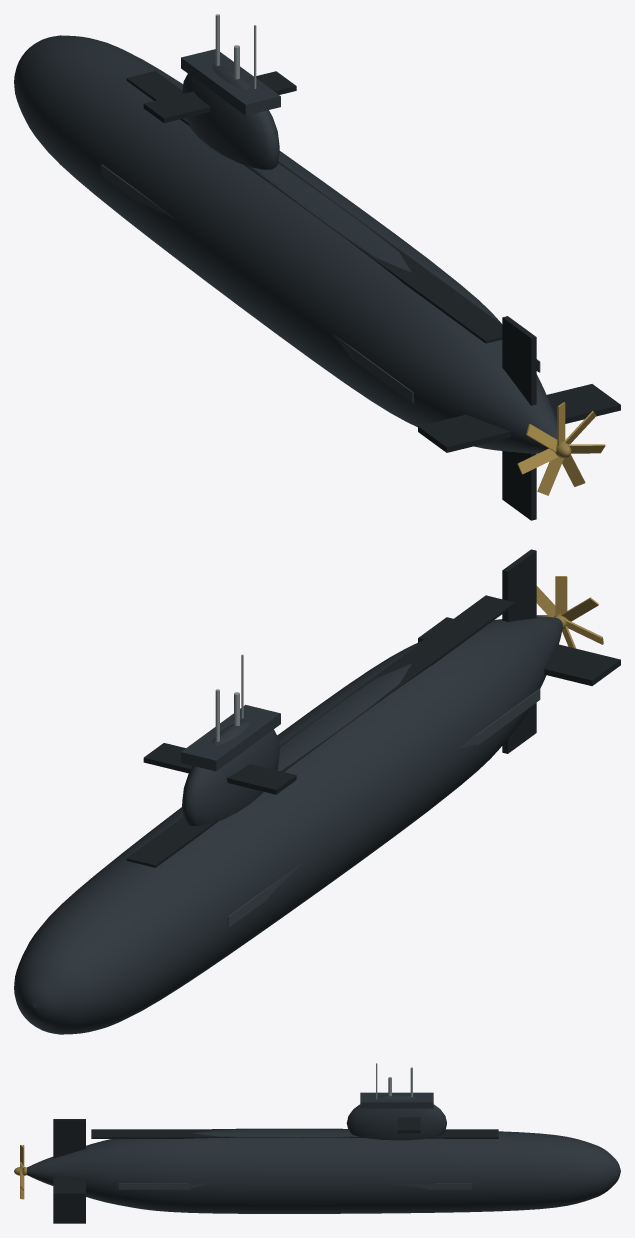
Rendered from submarine.glb.
The picture shows the model from 3 angles, top to bottom: view 1: azimuth 30°, elevation 25°; view 2: azimuth 150°, elevation 25°; view 3: azimuth 270°, elevation 25°; orthographic projection. The views are drawn at different scales.
Visible parts, largest first — view 1: SubHullAssembly, SailPlaneAssembly, ScrewBladeAssembly, FlankSeamAssembly; view 2: SubHullAssembly, SailPlaneAssembly, ScrewBladeAssembly, FlankSeamAssembly, PeriscopeAssembly; view 3: SubHullAssembly, SailPlaneAssembly, FlankSeamAssembly, ScrewBladeAssembly.
Boxes of the visible parts, <box> form: SubHullAssembly: <box>14,35,557,453</box>; SailPlaneAssembly: <box>126,71,620,520</box>; ScrewBladeAssembly: <box>517,402,605,495</box>; FlankSeamAssembly: <box>101,164,540,403</box>; SubHullAssembly: <box>14,616,562,1034</box>; SailPlaneAssembly: <box>33,549,620,1007</box>; ScrewBladeAssembly: <box>536,576,603,648</box>; FlankSeamAssembly: <box>227,689,540,927</box>; PeriscopeAssembly: <box>215,654,243,741</box>; SubHullAssembly: <box>27,1092,620,1213</box>; SailPlaneAssembly: <box>53,1116,498,1223</box>; FlankSeamAssembly: <box>118,1183,471,1189</box>; ScrewBladeAssembly: <box>20,1145,24,1199</box>.
Bounding box in the file's own units: 8.4 × 13.1 × 44.7.
